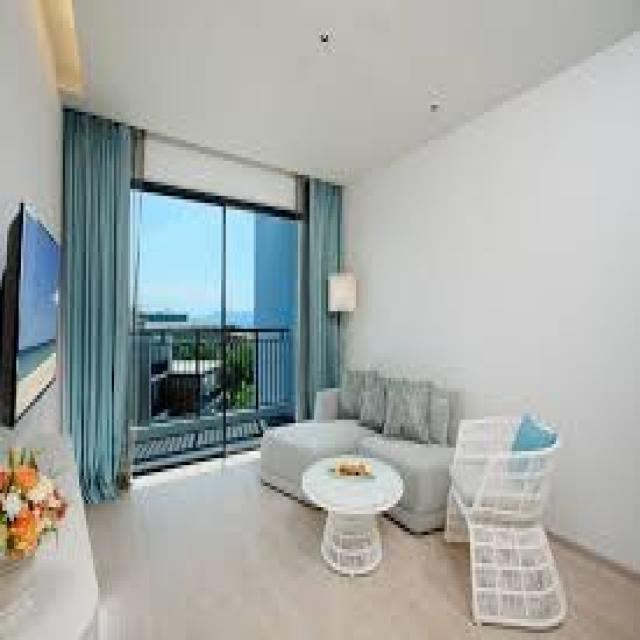Chair: (449, 410, 570, 632)
Sofa: (266, 356, 445, 534)
Table: (298, 452, 404, 579)
tv: (3, 205, 63, 425)
window: (73, 172, 332, 422)
